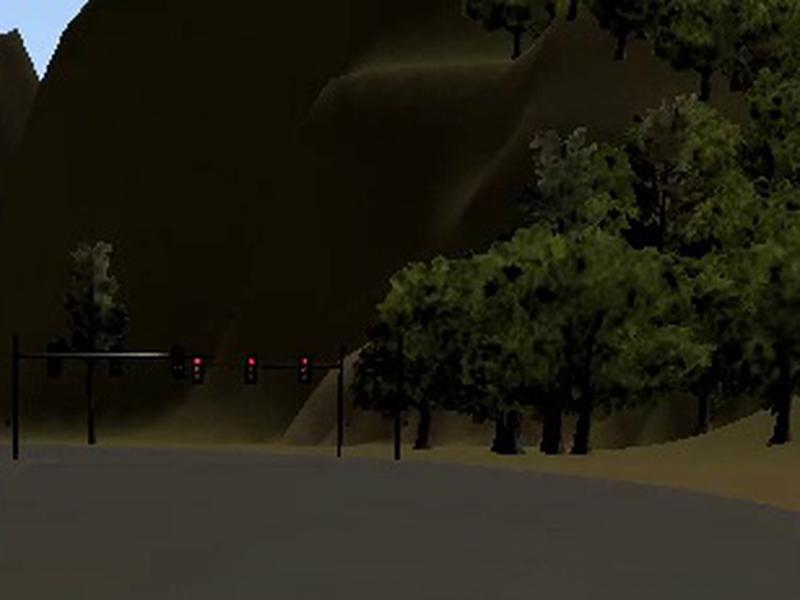Red: (190, 355, 203, 385), (245, 355, 258, 384), (299, 356, 311, 384)
